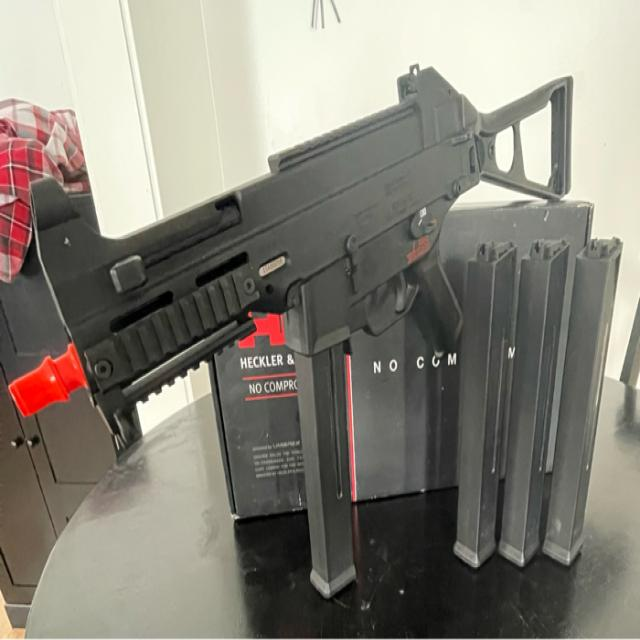SMG: (7, 66, 570, 600)
